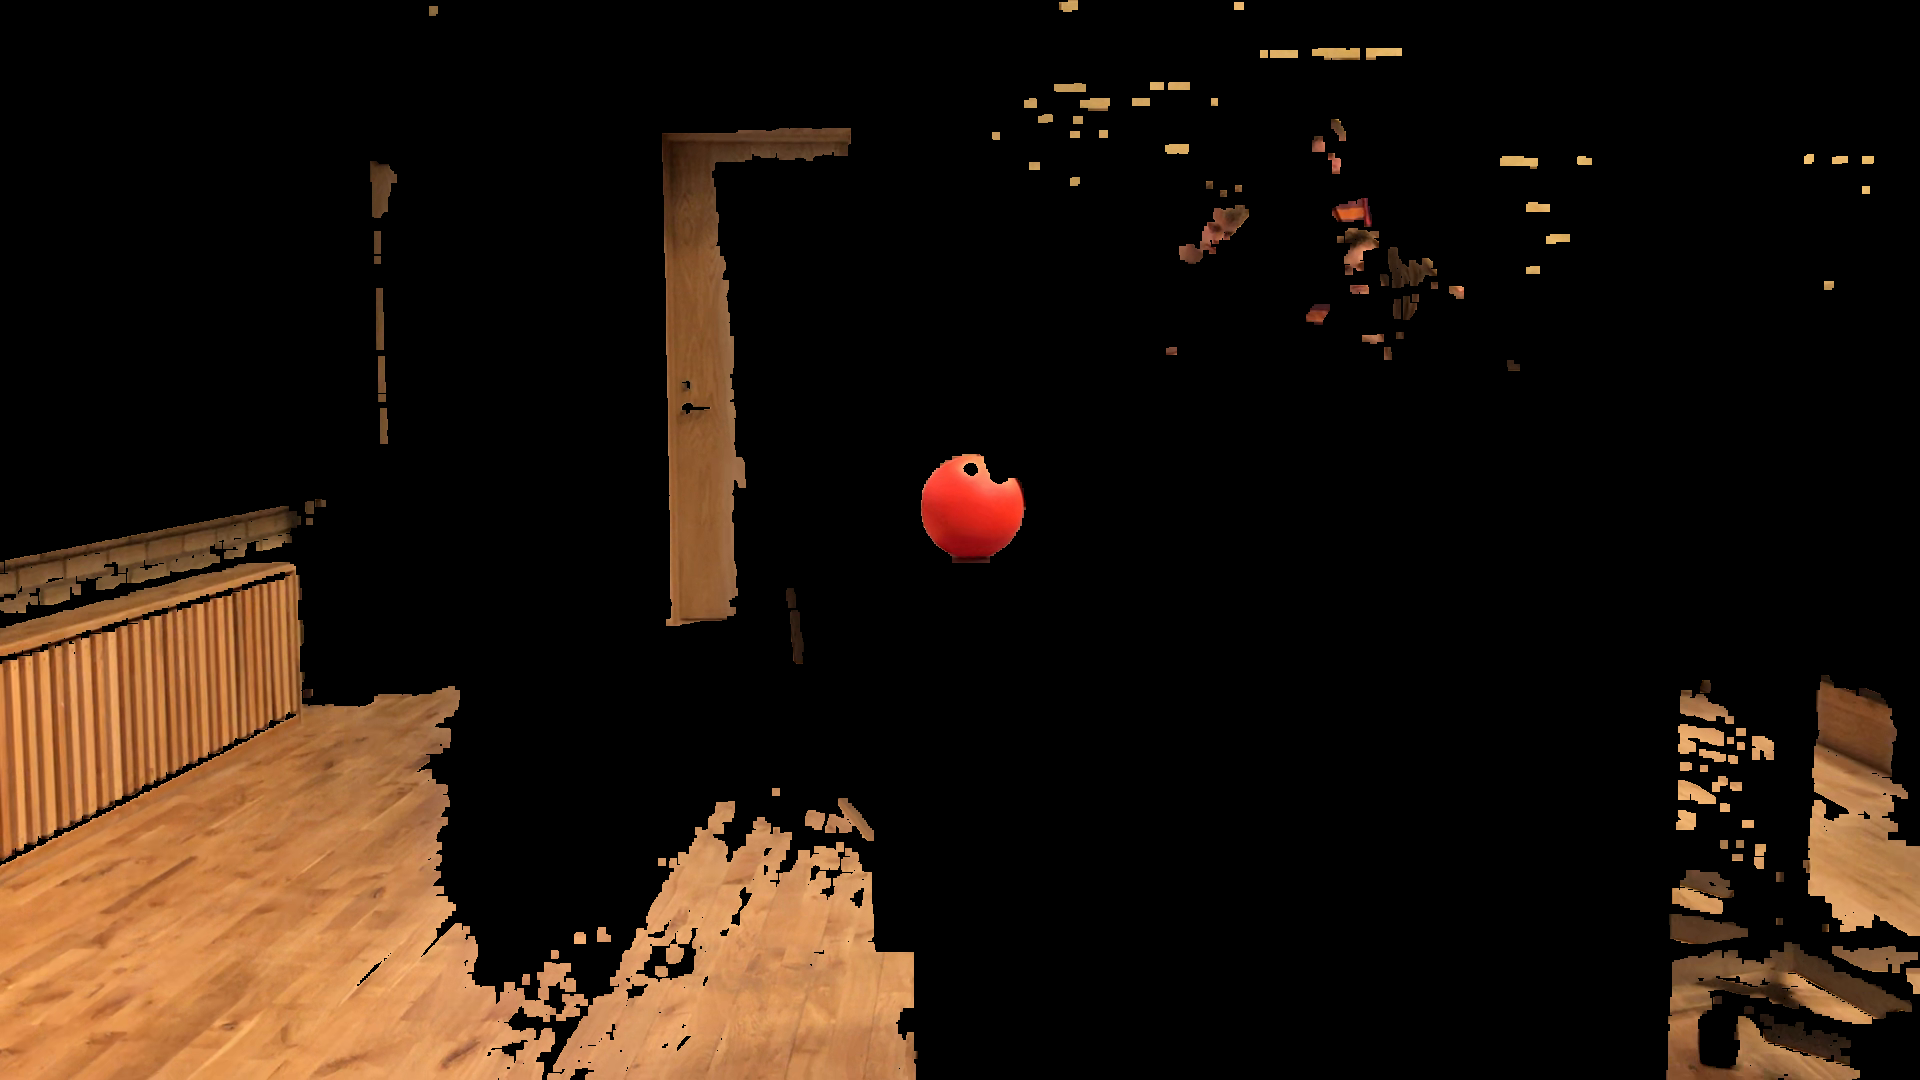Ball: (915, 454, 1034, 568)
